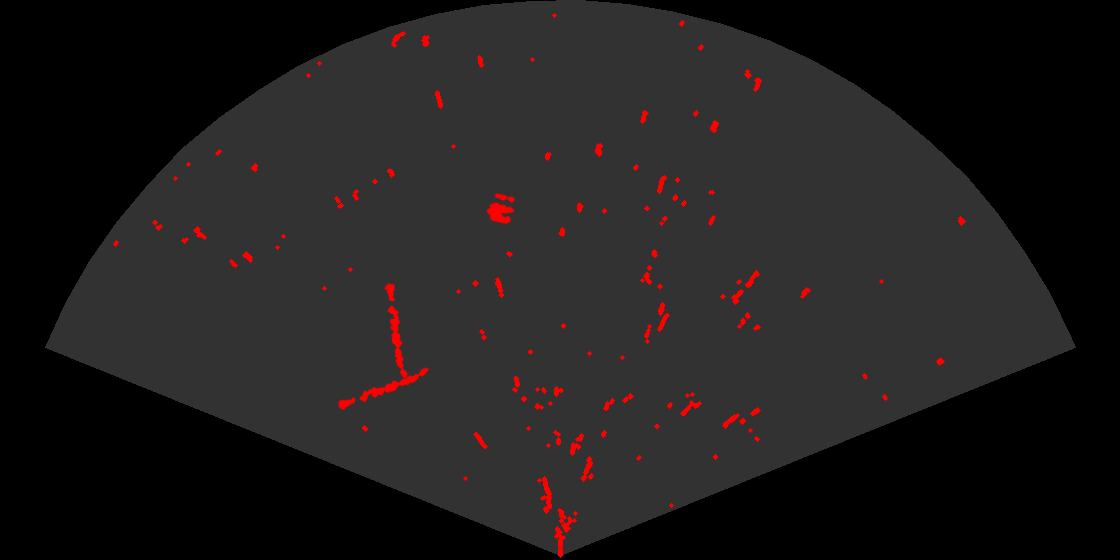ball: (485, 192, 517, 226)
chain: (336, 366, 431, 411), (383, 281, 409, 381)
